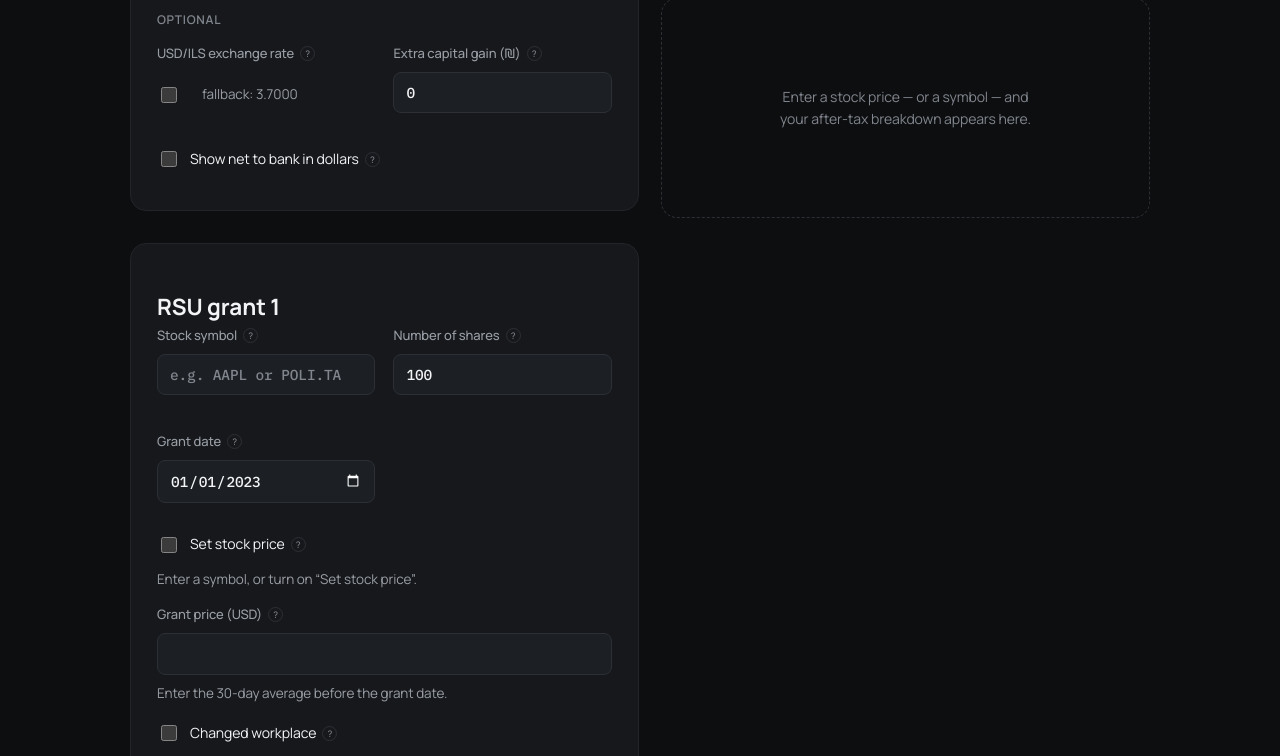
Test: RSU: Tel Aviv listings are priced in shekels › labels and computes in ILS when the lookup succeeds
(page scrolled)
Step 1. Type "POLI.TA" into the field labelled "Stock symbol" → (266, 374), box top-left (157, 354), bottom-right (376, 395)
(page scrolled)
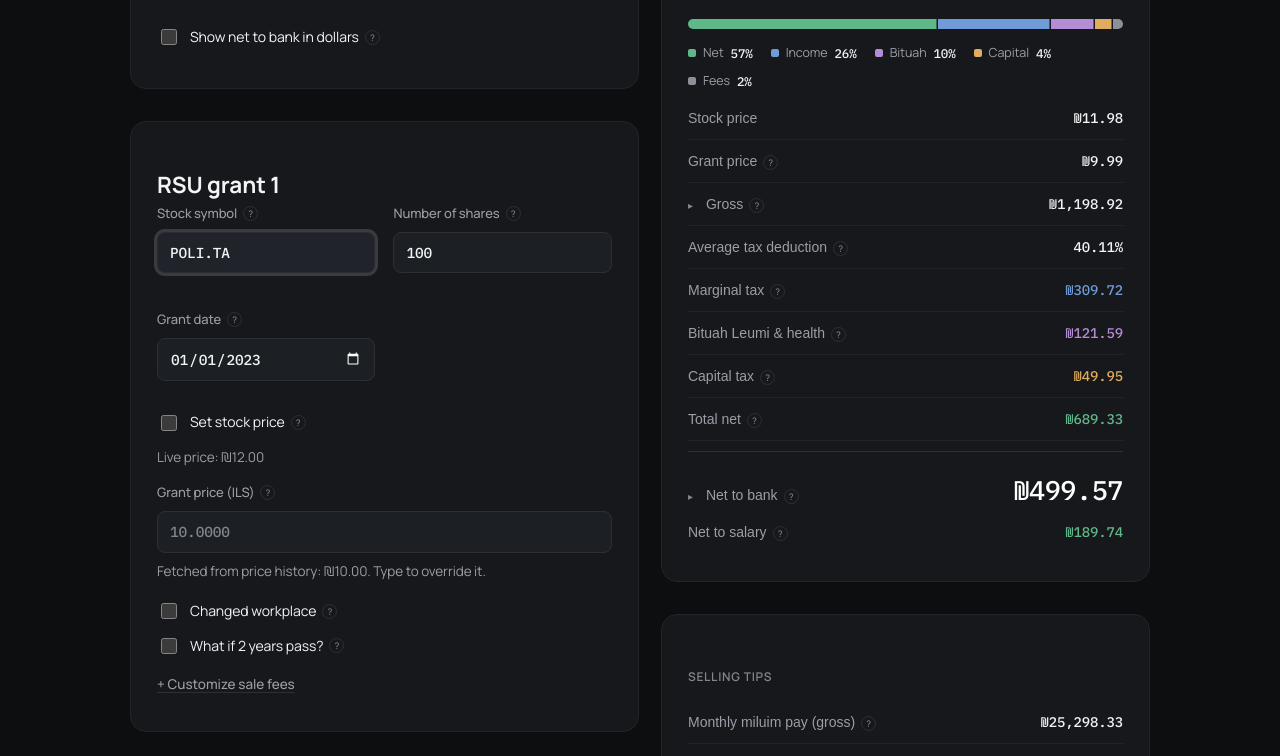
Expected: the number field labelled "Grant price (ILS)" is shown, top-left (157, 511), bottom-right (612, 553)
Result: the message reads "Live price: ₪12.00" at top-left (157, 448), bottom-right (264, 466)
